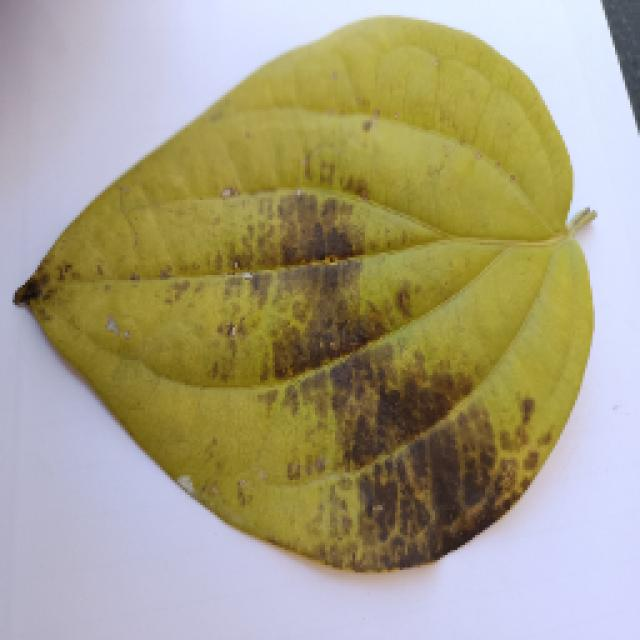slow-decline: (15, 12, 593, 572)
